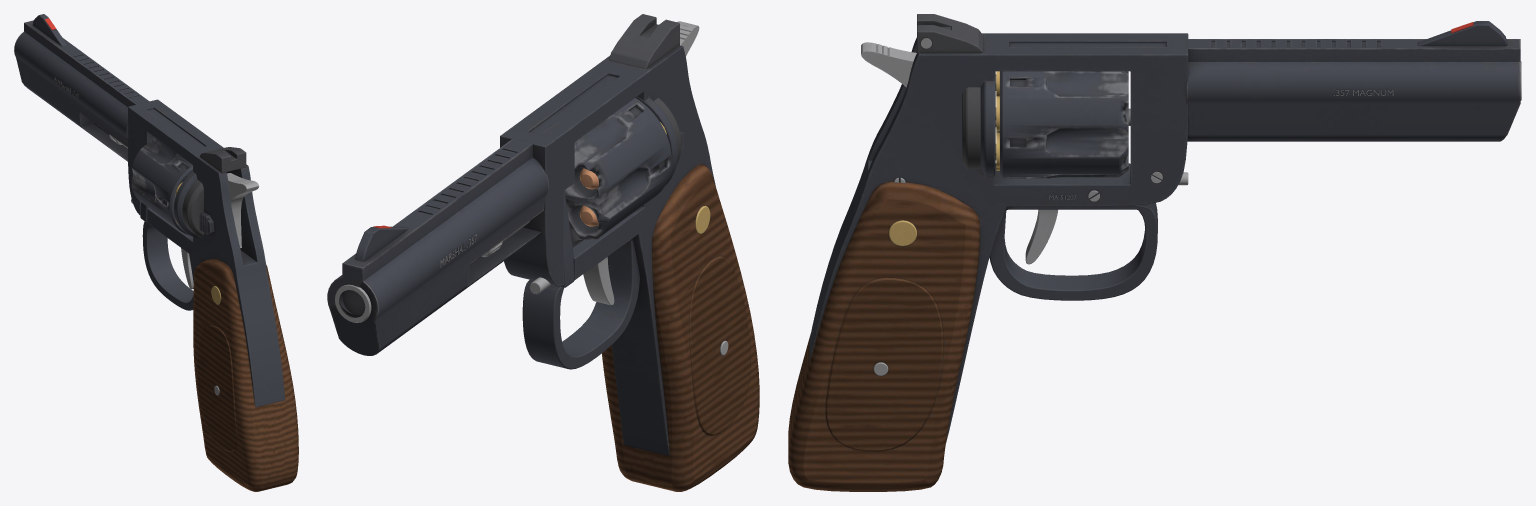
The model's file is revolver.glb.
3 views of the same model, side by side, from view 1: azimuth 30°, elevation 25°; view 2: azimuth 150°, elevation 25°; view 3: azimuth 270°, elevation 25° (orthographic). The views are drawn at different scales.
Parts seen in each view (by area): view 1: body, cylinder, loader, hammer; view 2: body, cylinder, crane, rounds; view 3: body, cylinder, loader, hammer.
Boxes of the visible parts, bbox=[...] form: body: bbox=[14, 14, 298, 491]; cylinder: bbox=[109, 134, 192, 234]; loader: bbox=[182, 180, 203, 237]; hammer: bbox=[227, 173, 258, 247]; body: bbox=[327, 14, 759, 491]; cylinder: bbox=[481, 98, 671, 257]; crane: bbox=[529, 190, 574, 294]; rounds: bbox=[579, 122, 666, 226]; body: bbox=[788, 14, 1521, 491]; cylinder: bbox=[998, 71, 1130, 178]; loader: bbox=[962, 71, 995, 168]; hammer: bbox=[861, 42, 916, 87].
Bounding box in the file's own units: 0.039 × 0.1619 × 0.2338.
Materials: 11 (11 with a texture image).
